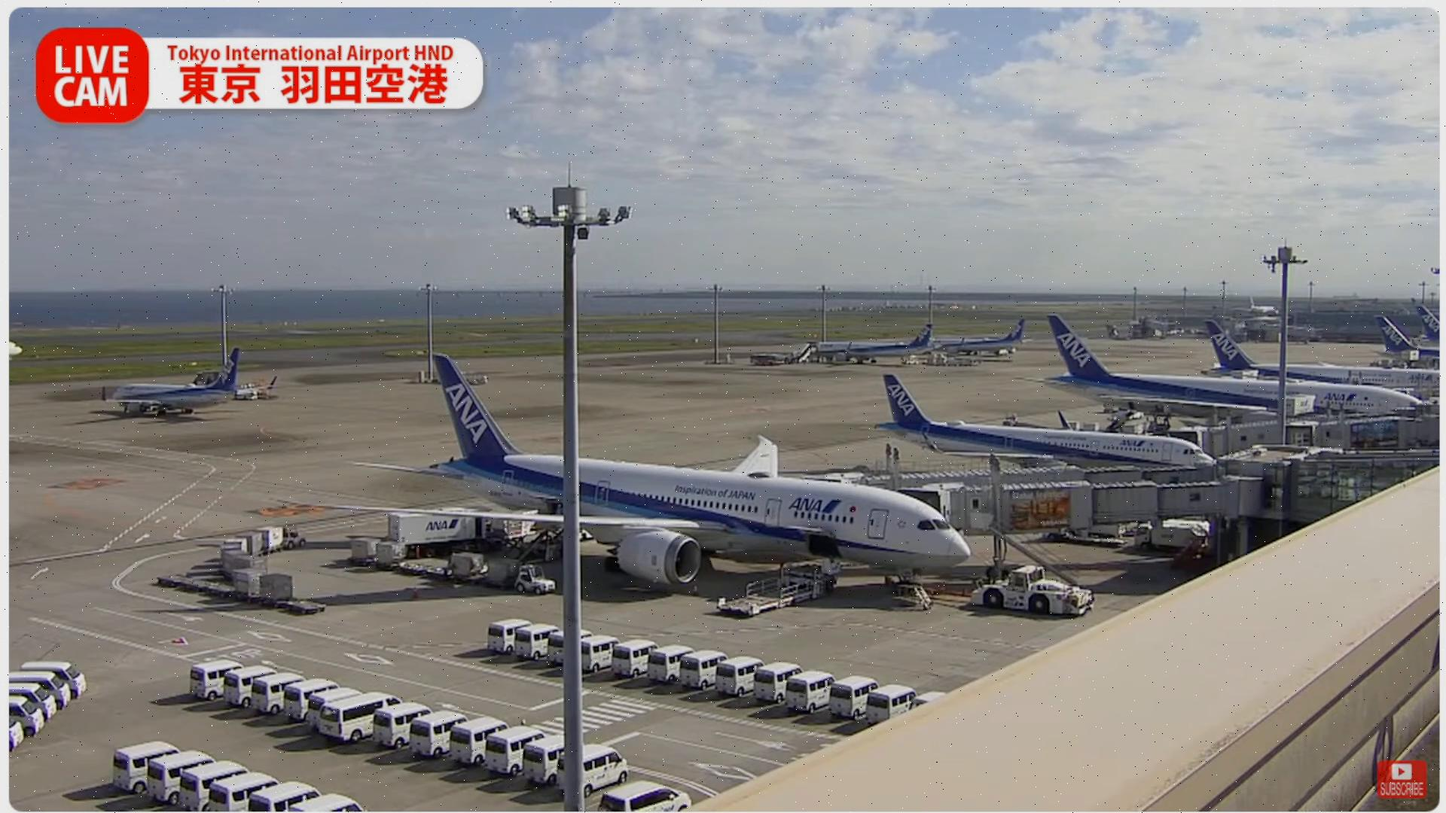APS: (969, 564, 1106, 619)
Aerobridge: (899, 476, 1264, 540), (843, 457, 1217, 496)
Airplane: (330, 354, 973, 599)
Catering: (387, 505, 503, 562)
Dolly: (350, 534, 510, 593), (157, 564, 332, 616), (219, 523, 284, 577)
JCPL: (714, 553, 842, 618), (481, 516, 567, 568)
Tractor: (516, 567, 559, 596), (284, 523, 311, 549)
Window: (1290, 456, 1440, 523)
